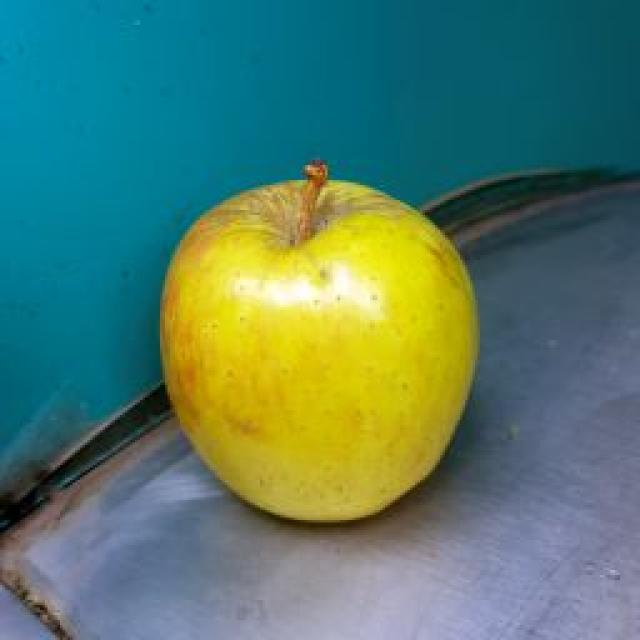Good_Apple: (161, 161, 479, 521)
